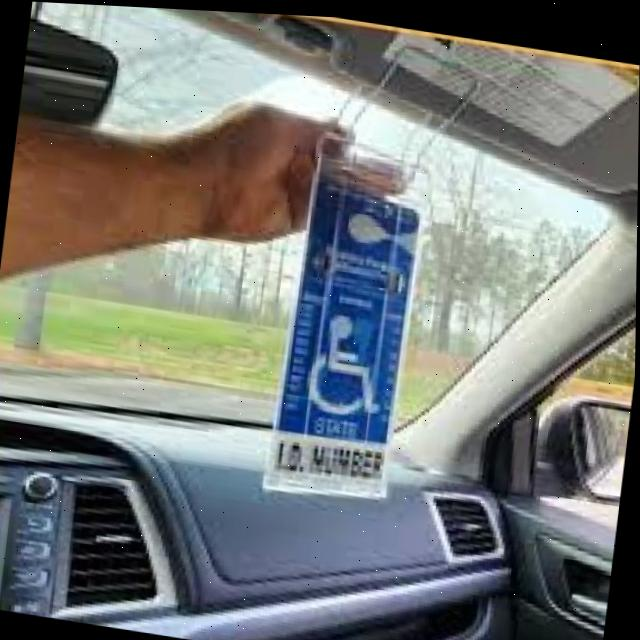symbol_of_access: (304, 304, 395, 428)
